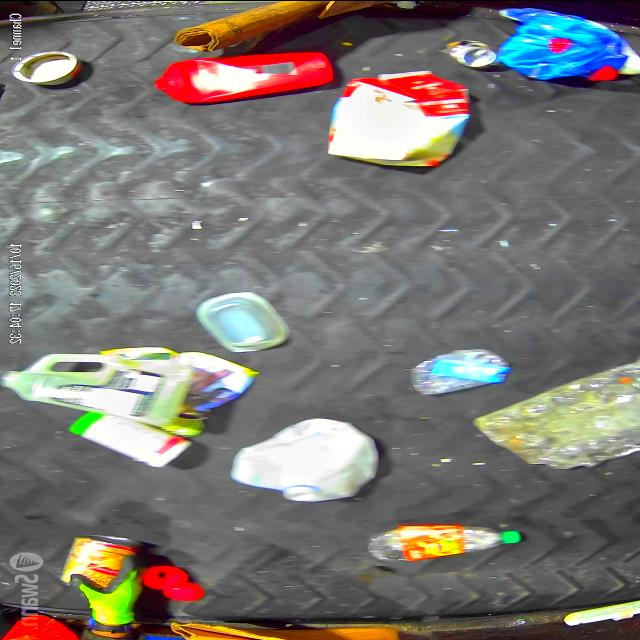can: (55, 533, 141, 585), (436, 38, 499, 68)
milk_jug: (226, 418, 376, 504), (0, 354, 193, 417)
non_white_jug: (328, 69, 468, 167), (495, 5, 627, 86), (151, 54, 327, 100)
plastic_bottle: (354, 529, 524, 563)
